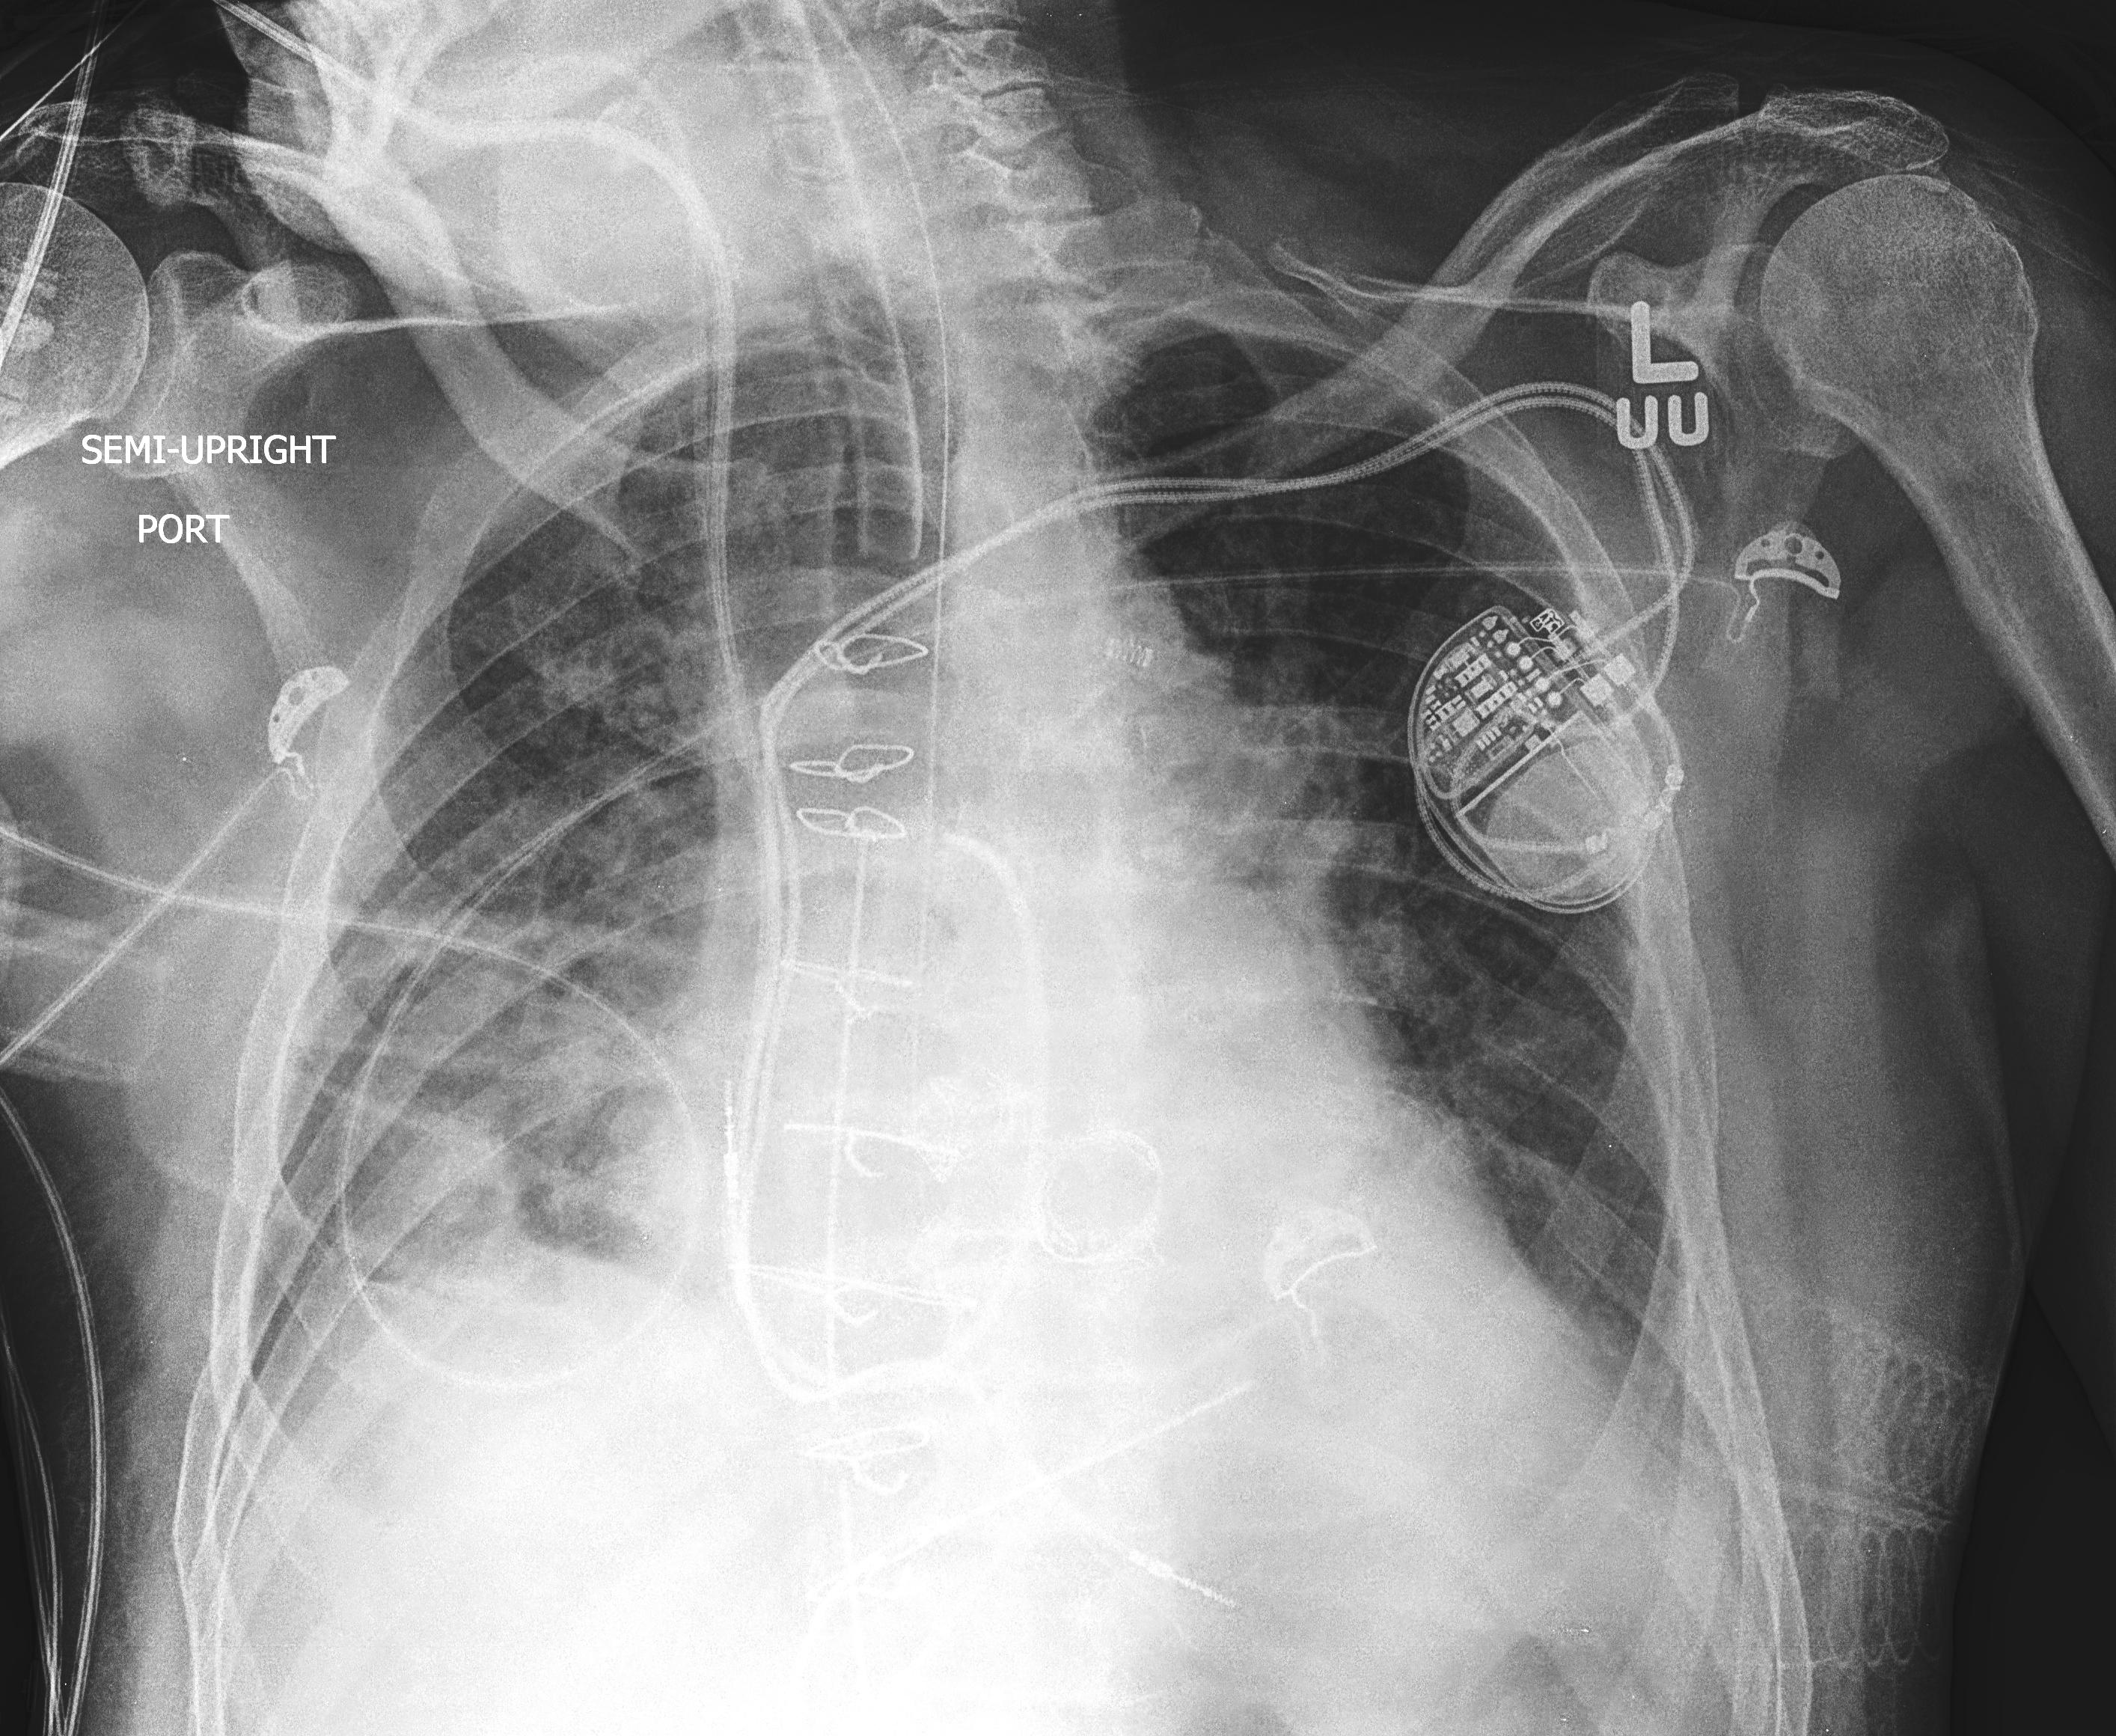Pleural Effusion: (192, 1061, 650, 1636)
